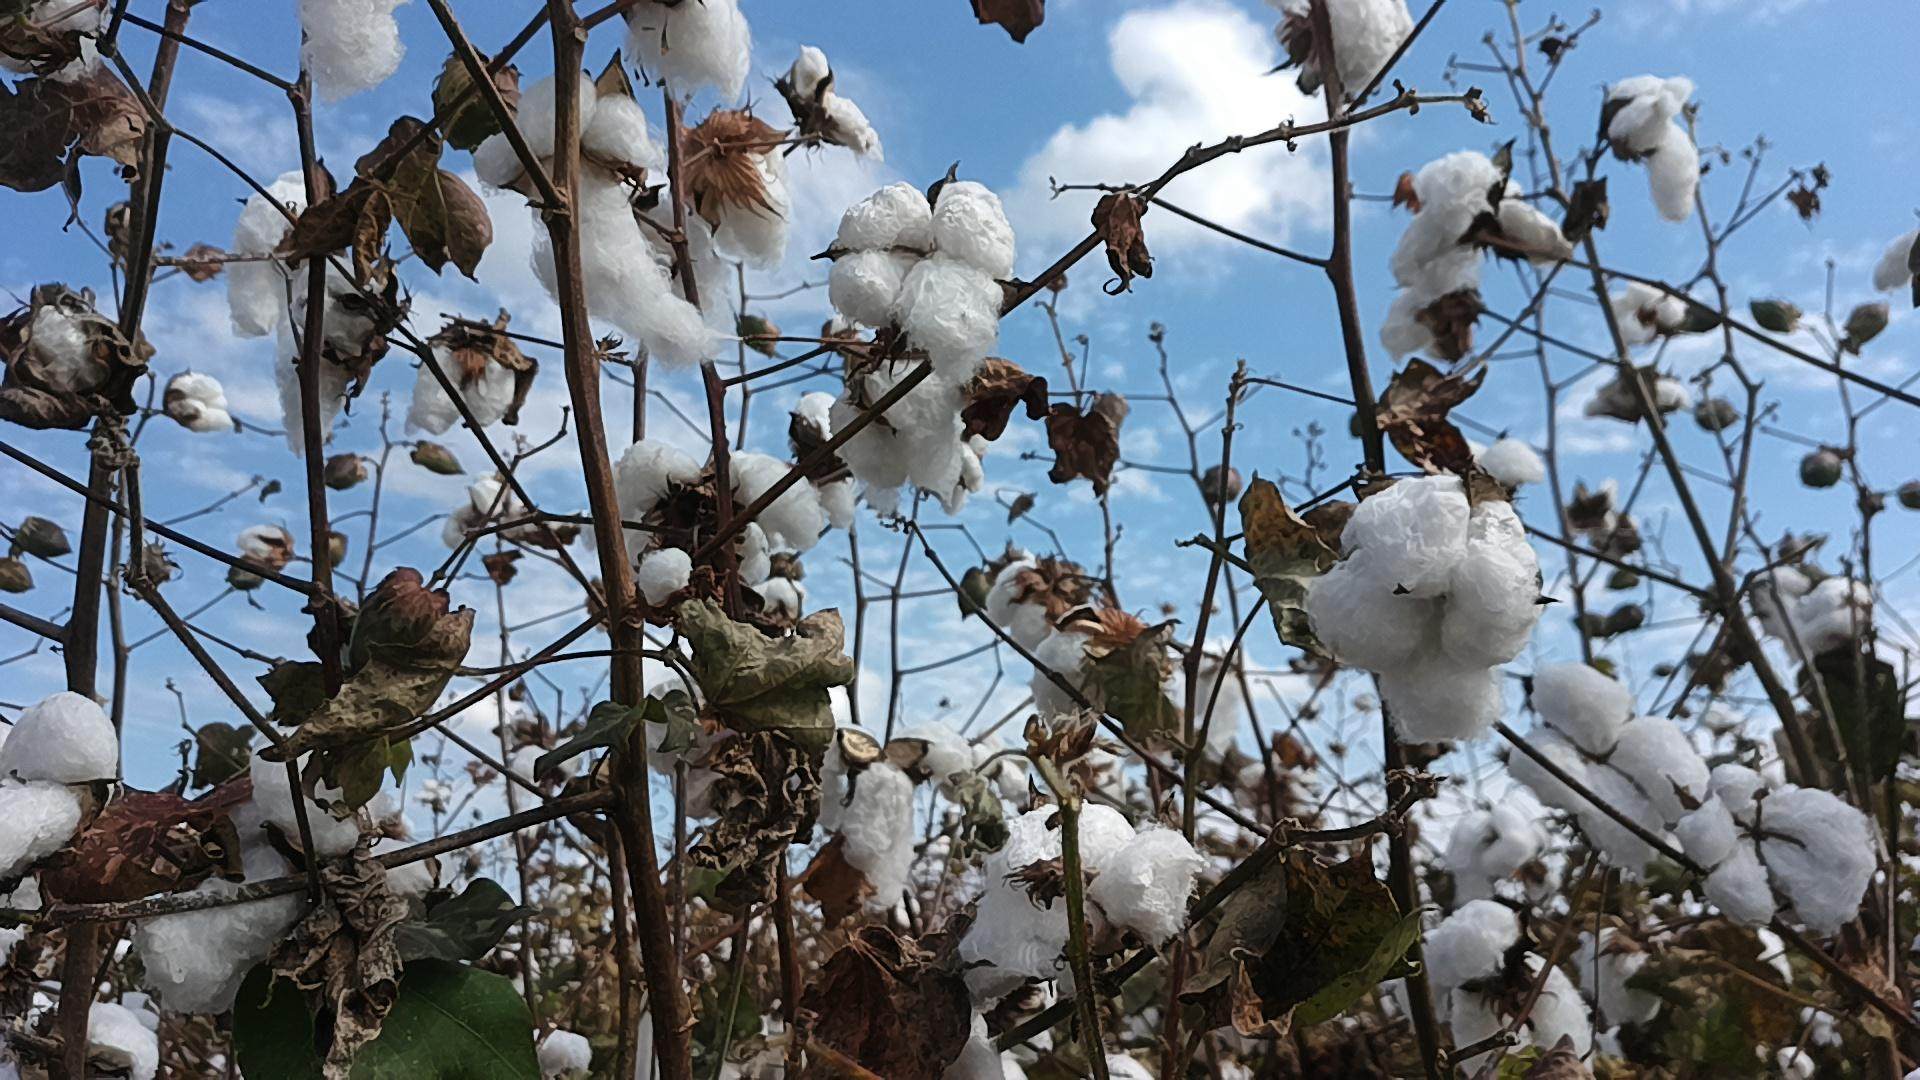cotton_ready: (473, 78, 731, 376), (1308, 476, 1543, 741), (136, 837, 430, 1017), (222, 175, 376, 463), (969, 806, 1208, 977), (1515, 661, 1710, 858), (582, 443, 833, 589), (828, 187, 1010, 388), (818, 723, 978, 919), (1677, 766, 1873, 927), (1432, 901, 1604, 1080), (1395, 153, 1581, 290), (0, 691, 120, 891), (844, 365, 982, 516), (255, 725, 404, 847), (1027, 611, 1155, 727), (1602, 78, 1702, 218), (630, 0, 758, 105), (705, 145, 795, 273), (298, 0, 410, 100), (1298, 0, 1415, 94), (404, 345, 518, 439), (1386, 251, 1480, 363), (0, 301, 105, 397), (984, 555, 1093, 647), (0, 0, 116, 83)
